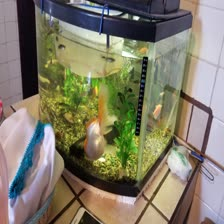Cuezo: (83, 83, 113, 161)
